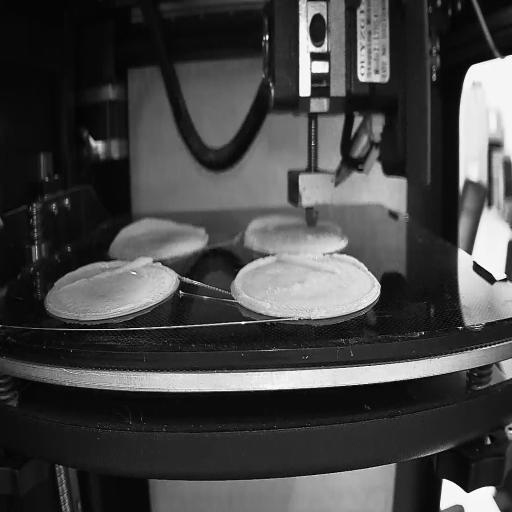over_extrusion: (59, 255, 153, 293), (115, 209, 206, 241), (234, 254, 280, 309), (243, 215, 303, 247), (330, 252, 368, 272)
